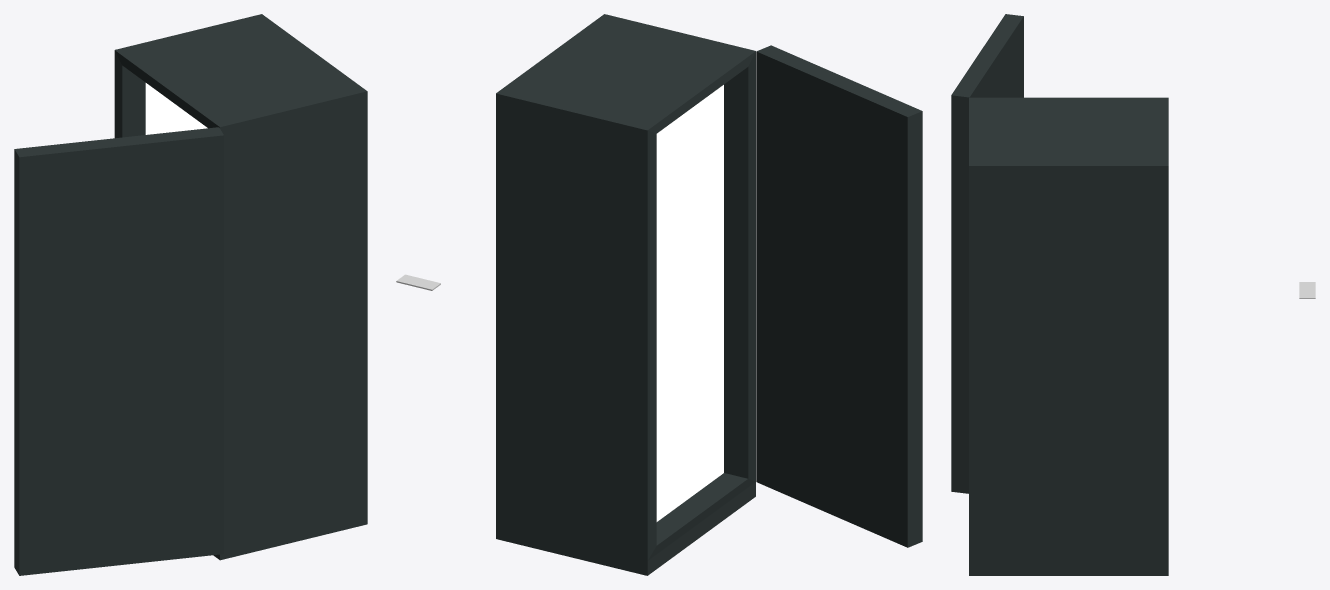
Rendered from space-fridge.fbx.
3 renders of one model, left to right at view 1: azimuth 30°, elevation 25°; view 2: azimuth 150°, elevation 25°; view 3: azimuth 270°, elevation 25°, orthographic. The views are drawn at different scales.
Parts seen in each view (by area): view 1: Fridge; view 2: Fridge; view 3: Fridge.
Part boxes in pixels (box(x1,y1,x2,y2)): Fridge: box(14, 14, 367, 575); Fridge: box(496, 14, 922, 575); Fridge: box(951, 14, 1168, 575).
Size of the model in its own units: 290 by 345 by 278.
2 materials, 1 textured.
